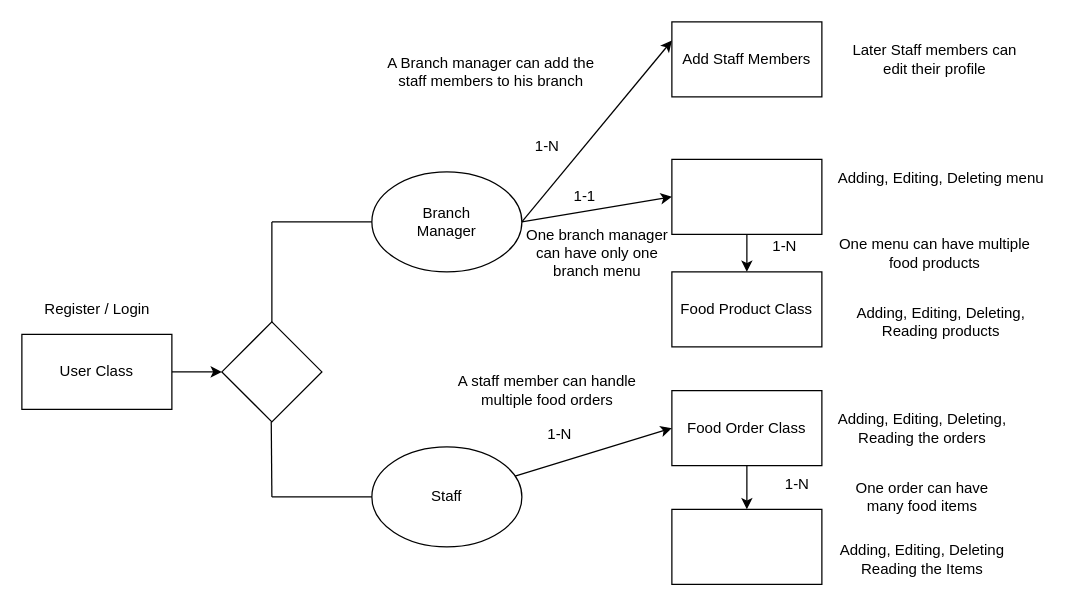
The diagram is 1081 pixels wide and 606 high, and some of its shapes have lost their labels. Each missing label, with the box of its shape:
Menu Class: (671, 158, 822, 234)
Order Items Class: (671, 508, 822, 584)
Role: (221, 321, 322, 422)
